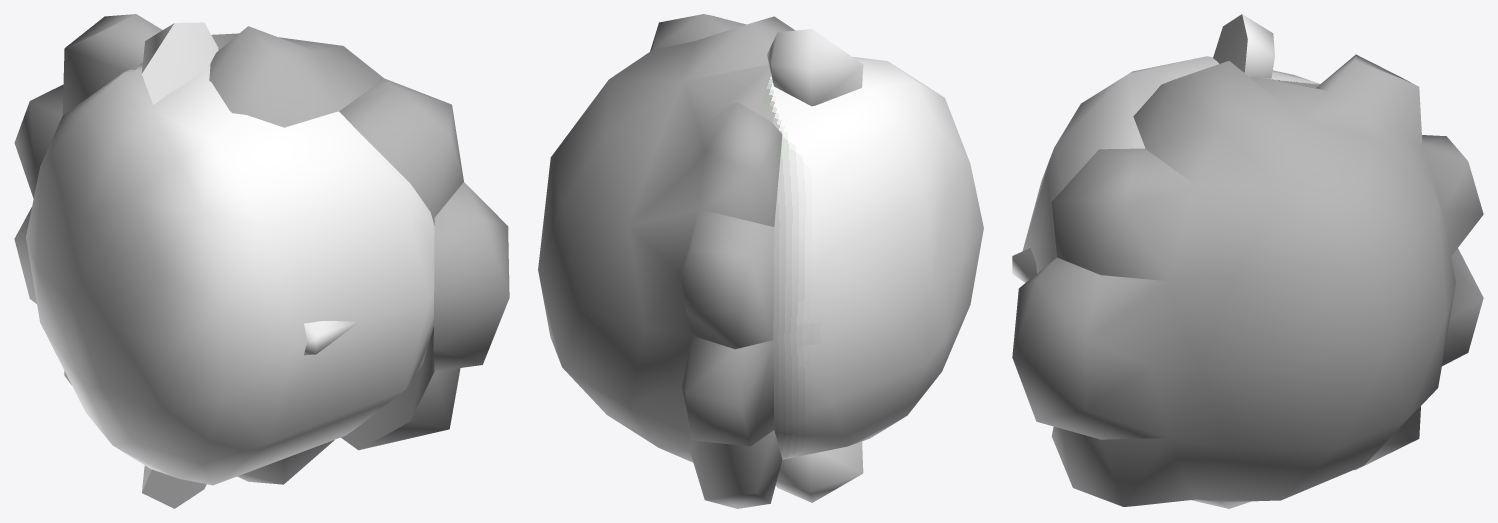
File: boy15a.dae
The picture shows the model from 3 angles, left to right: view 1: azimuth 30°, elevation 25°; view 2: azimuth 150°, elevation 25°; view 3: azimuth 270°, elevation 25°; orthographic projection. The views are drawn at different scales.
Parts seen in each view (by area): view 1: boy15a; view 2: boy15a; view 3: boy15a.
Boxes of the visible parts, x1,y1,x2,y2 form: boy15a: (14, 14, 509, 508); boy15a: (538, 14, 983, 508); boy15a: (1012, 14, 1483, 508).
Size of the model in its own units: 21.17 by 26.71 by 23.87.
3 materials, 1 textured.
